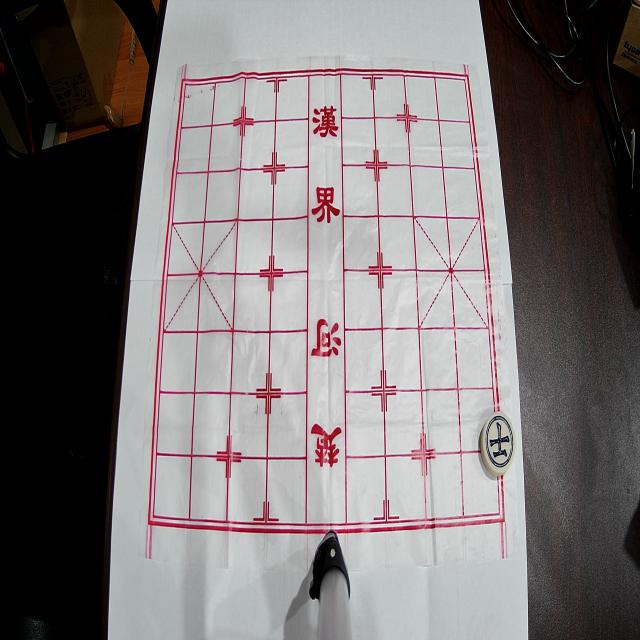black-guard: (480, 412, 516, 476)
